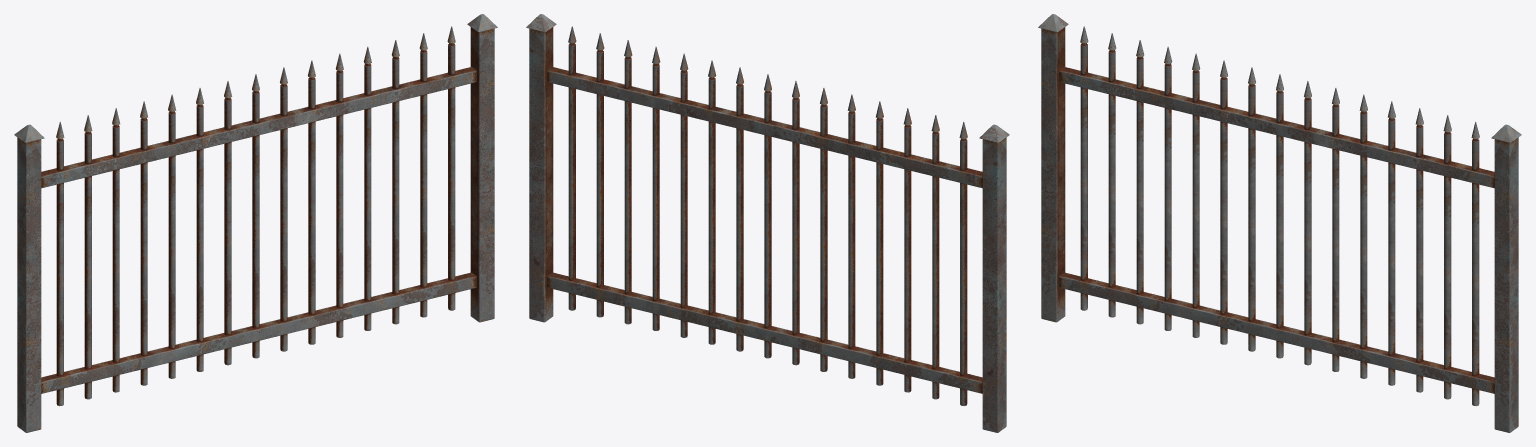
File: fence_SM_Fence_a.fbx
3 renders of one model, left to right at view 1: azimuth 30°, elevation 25°; view 2: azimuth 150°, elevation 25°; view 3: azimuth 330°, elevation 25°, orthographic.
Visible parts, largest first — view 1: fence_SM_Fence_a; view 2: fence_SM_Fence_a; view 3: fence_SM_Fence_a.
Boxes of the visible parts, <box> form: fence_SM_Fence_a: <box>14,14,497,432</box>; fence_SM_Fence_a: <box>526,14,1009,432</box>; fence_SM_Fence_a: <box>1038,14,1521,432</box>.
Bounding box in the file's own units: 343 × 14.28 × 210.
Materials: 1 (1 with a texture image).
